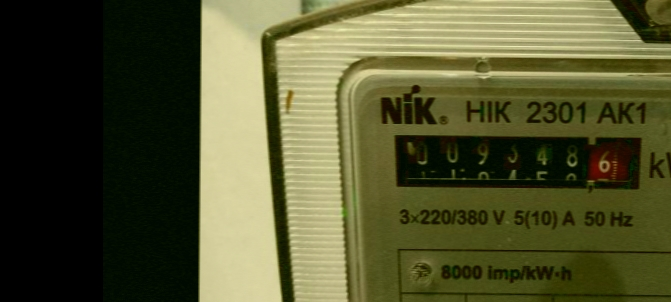0: (413, 142, 429, 169), (444, 140, 458, 166)
3: (505, 141, 519, 166)
4: (532, 139, 550, 170)
6: (595, 148, 612, 177)
8: (564, 143, 579, 171)
9: (475, 143, 489, 170)
screen: (376, 122, 654, 202)
